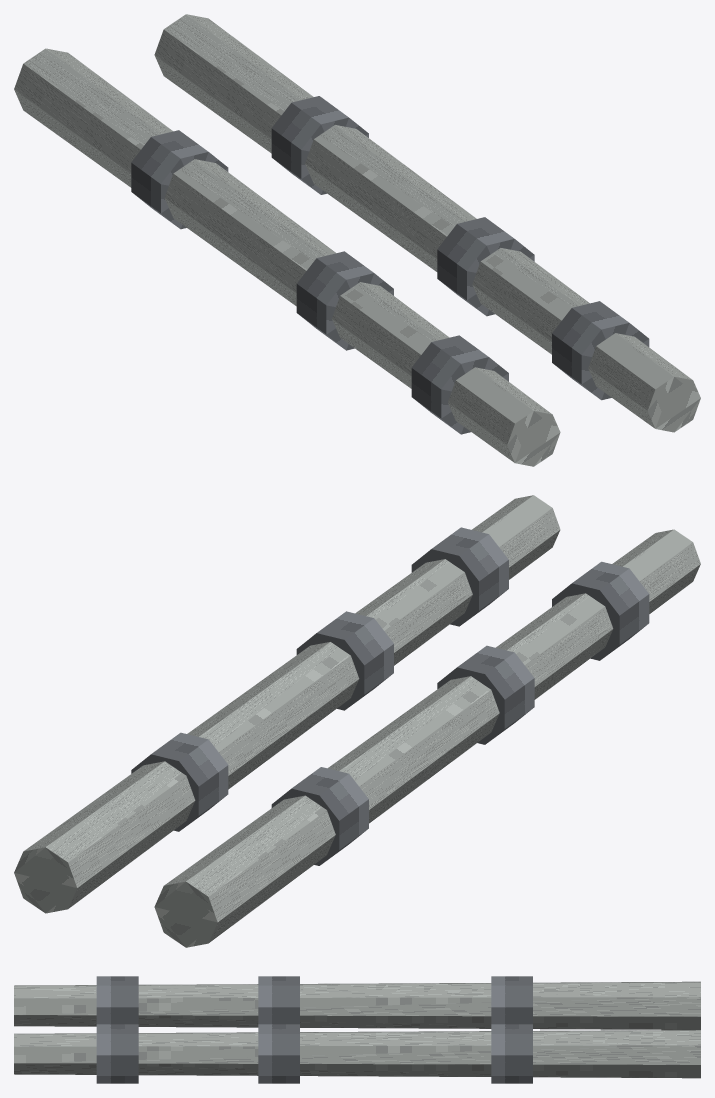
Rendered from tent_pole.glb.
The picture shows the model from 3 angles, top to bottom: view 1: azimuth 30°, elevation 25°; view 2: azimuth 150°, elevation 25°; view 3: azimuth 270°, elevation 25°; orthographic projection. The views are drawn at different scales.
Visible parts, largest first — view 1: block_collapsed tent pole segment (×2), block_pole joint (×6); view 2: block_collapsed tent pole segment (×2), block_pole joint (×6); view 3: block_collapsed tent pole segment (×2), block_pole joint (×6).
Boxes of the visible parts, left/top/right/bottom form: block_collapsed tent pole segment (×2): left=14, top=14, right=700, bottom=466; block_pole joint (×6): left=131, top=96, right=649, bottom=434; block_collapsed tent pole segment (×2): left=14, top=495, right=700, bottom=947; block_pole joint (×6): left=131, top=527, right=649, bottom=865; block_collapsed tent pole segment (×2): left=14, top=981, right=700, bottom=1078; block_pole joint (×6): left=96, top=976, right=532, bottom=1083.
Size of the model in its own units: 0.2214 by 0.072 by 0.9.
1 material, 1 textured.
